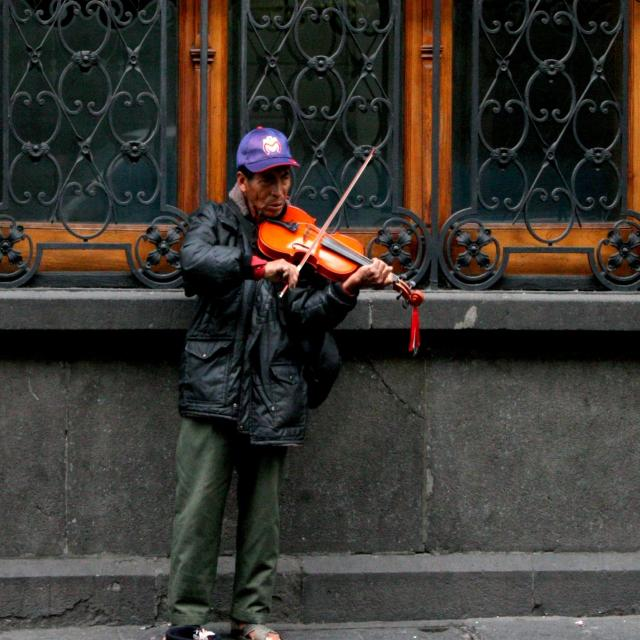violin: (252, 198, 429, 312)
